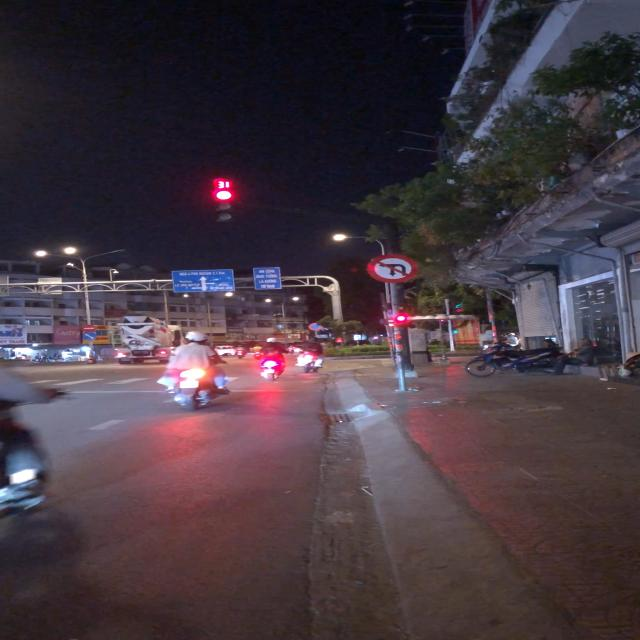Bien bao cam di nguoc chieu: (80, 323, 98, 332)
Bien bao cam re trai va quay dau: (364, 254, 420, 284)
Bien bao huong phai di vong chuong ngai vat: (81, 332, 98, 342)
